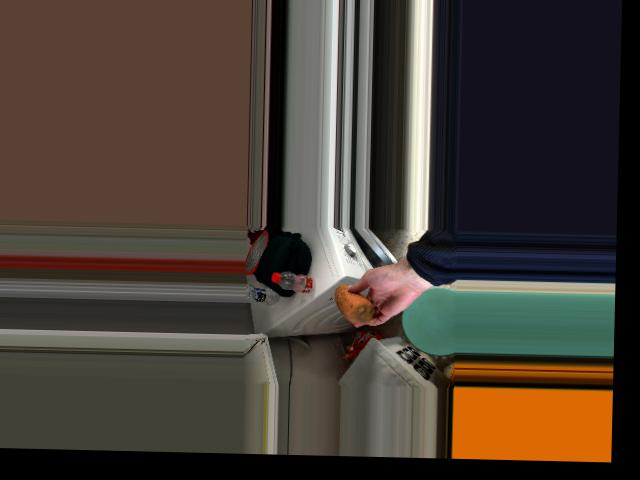sweet_potato: (334, 280, 380, 320)
